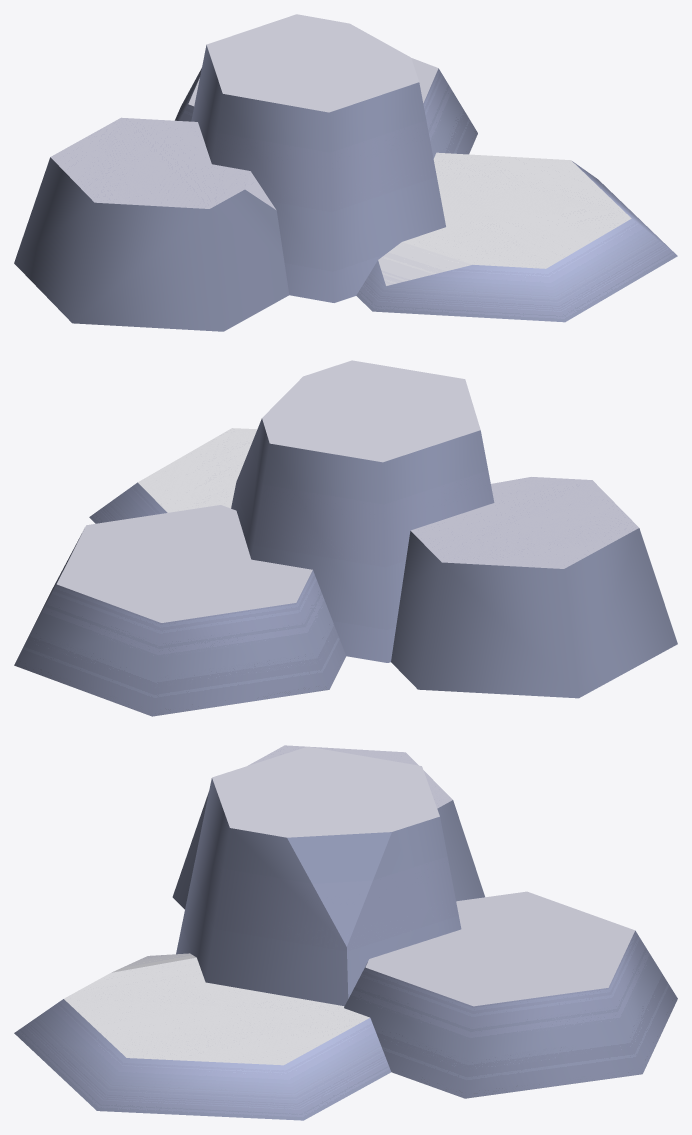
File: snow-detail-rocks.glb
The picture shows the model from 3 angles, top to bottom: view 1: azimuth 30°, elevation 25°; view 2: azimuth 150°, elevation 25°; view 3: azimuth 270°, elevation 25°; orthographic projection. The views are drawn at different scales.
Parts seen in each view (by area): view 1: snow-detail-rocks; view 2: snow-detail-rocks; view 3: snow-detail-rocks.
Boxes of the visible parts, x1,y1,x2,y2 form: snow-detail-rocks: (14, 14, 677, 331); snow-detail-rocks: (14, 360, 677, 716); snow-detail-rocks: (14, 745, 677, 1120).
Size of the model in its own units: 1.79 by 0.5534 by 1.82.
1 material, 1 textured.
